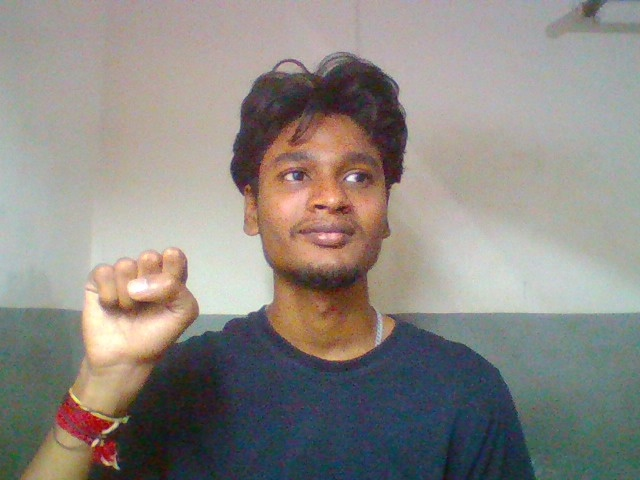Bye: (59, 239, 218, 372)
